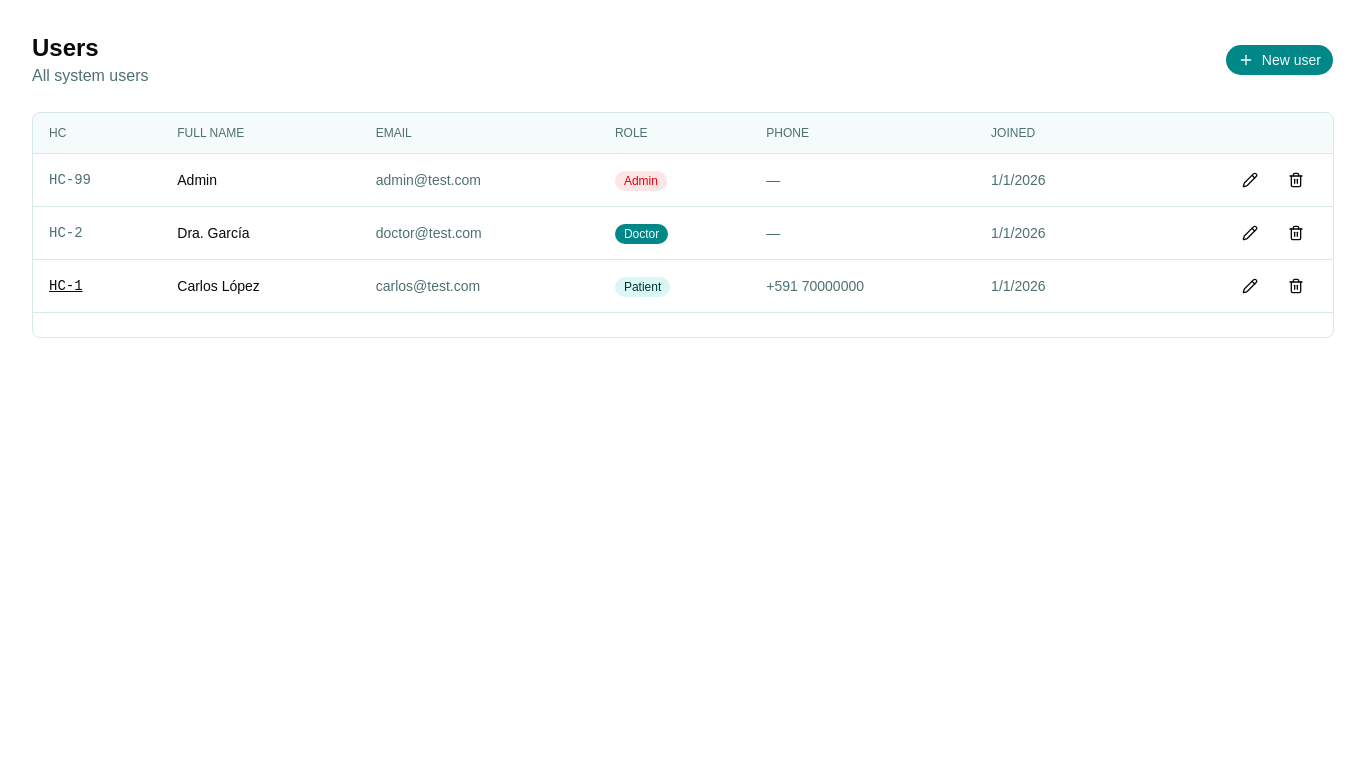
Test: UsersPage › as admin › opens create dialog with Role selector when clicking New user
Click the button "New user" at (1279,60), box [1225,44,1334,76]
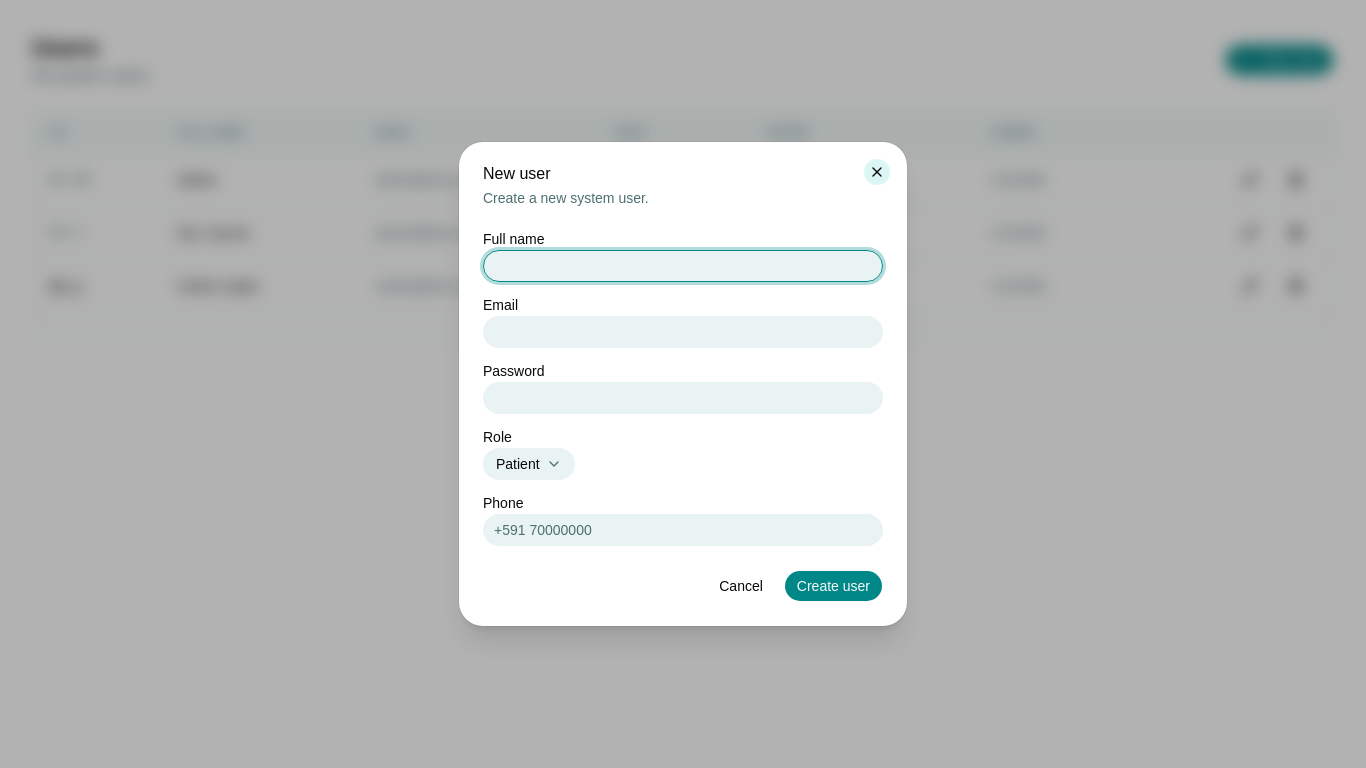
Check: the heading "New user" is shown, box [483,165,551,182]
Check: the dropdown is shown, box [483,448,575,480]
